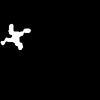single_crochet: (1, 24, 30, 49)
